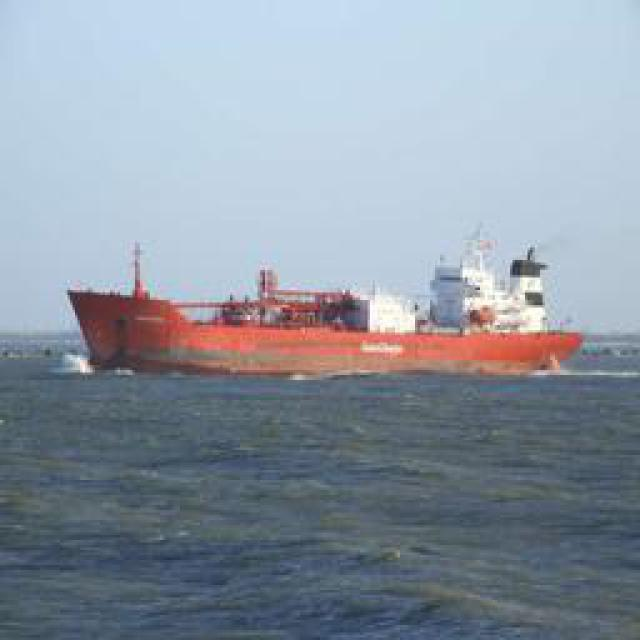Ship: (59, 227, 589, 387)
